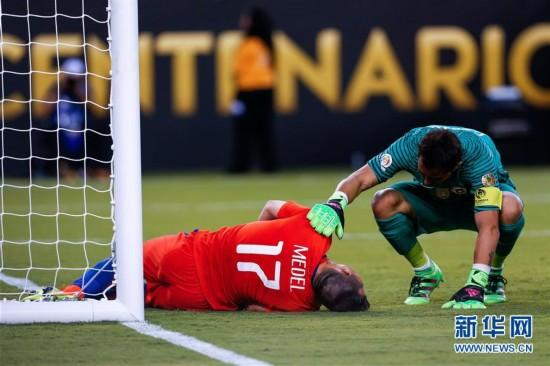bending: (337, 122, 535, 303)
down: (13, 195, 375, 325)
